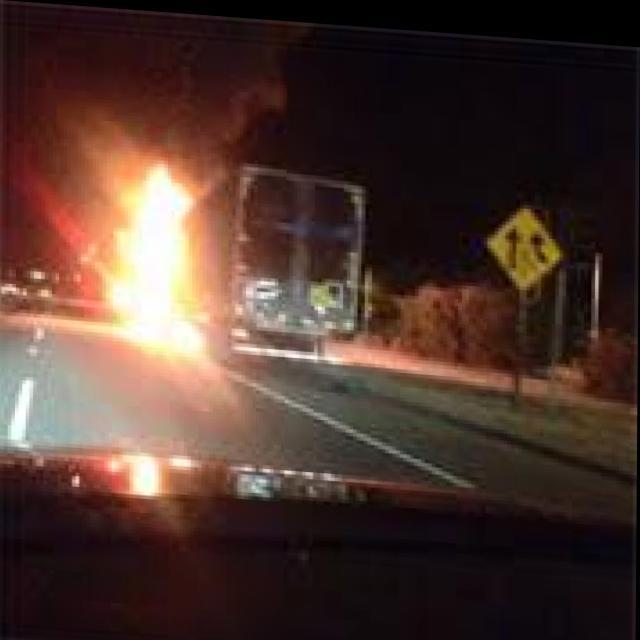fire: (88, 150, 265, 351)
